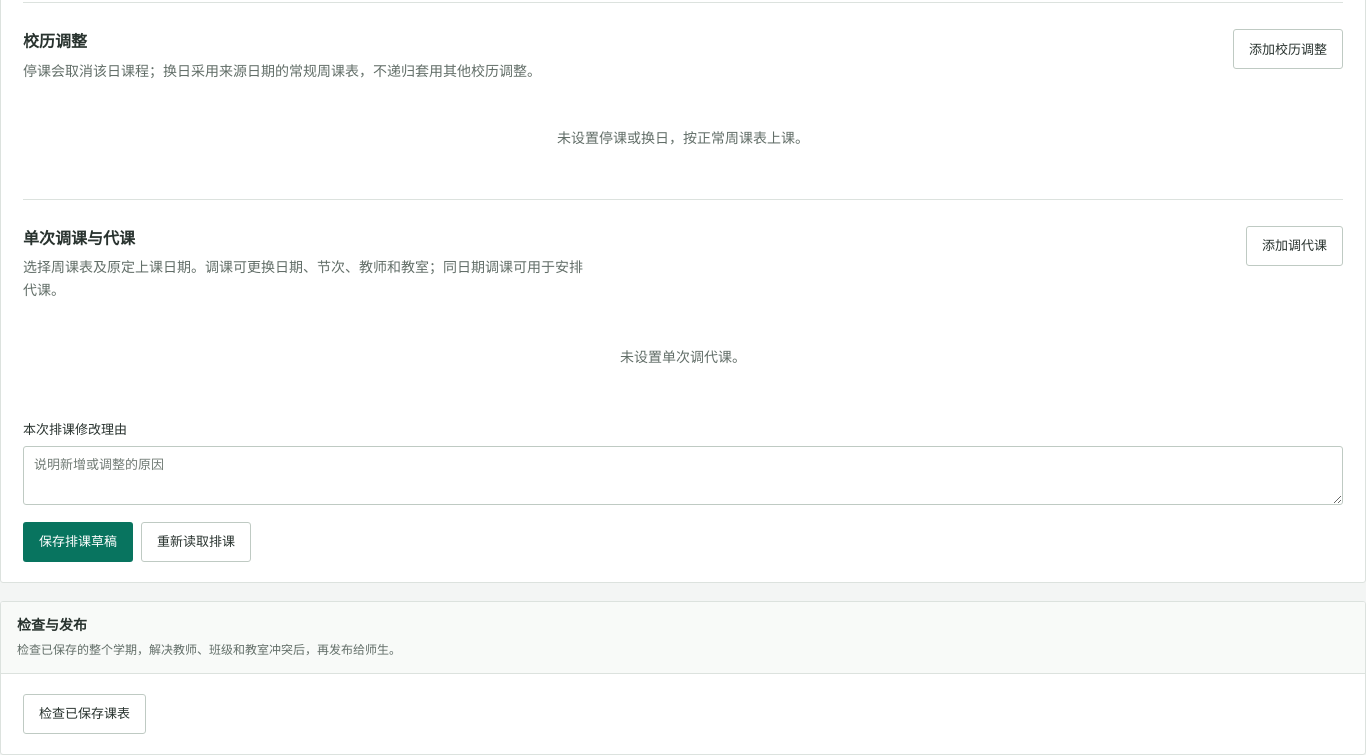
Test: shows conflict details and forbids publication until a clean current revision is checked
This screenshot has width=1366, height=755.
(page scrolled)
Click the button "检查已保存课表". click: [84, 714]
box: [23, 694, 146, 734]
(page scrolled)
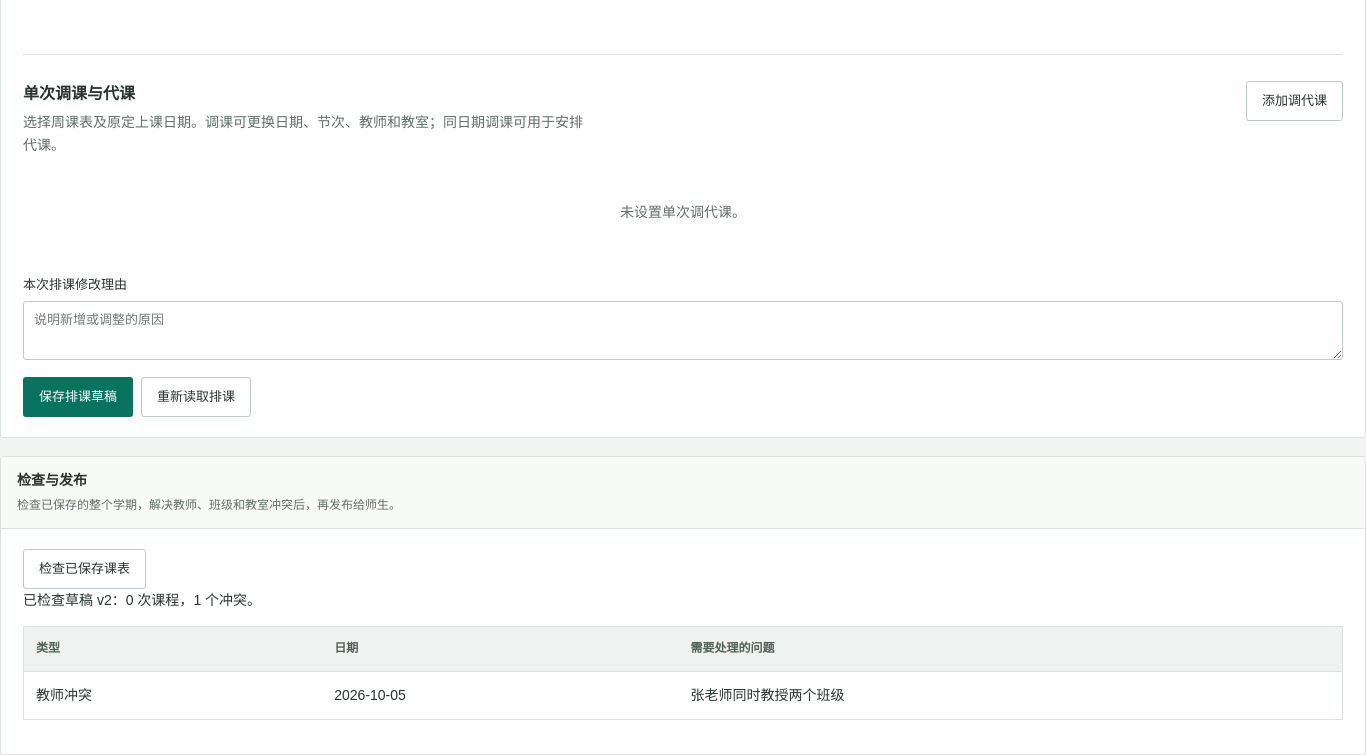
Now the text "张老师同时教授两个班级" is shown, box [678, 671, 1342, 719]
